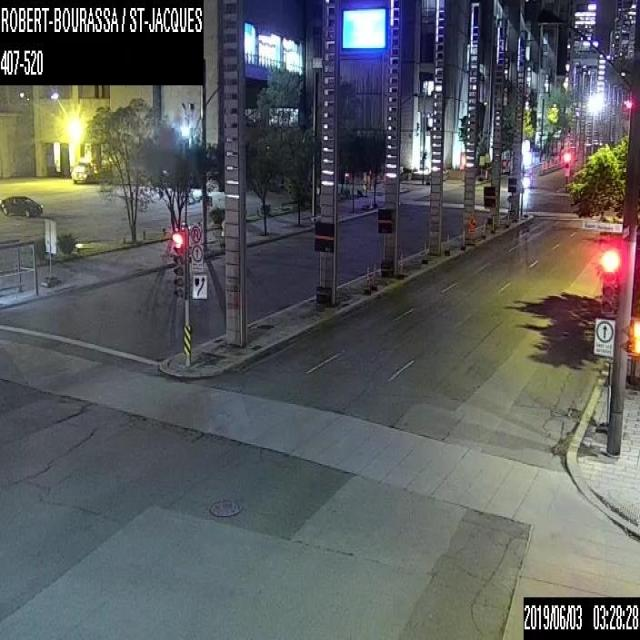construction: (464, 212, 479, 233), (399, 250, 403, 274), (366, 267, 369, 289), (460, 230, 464, 246), (423, 239, 426, 260), (372, 266, 375, 286), (491, 216, 494, 233), (445, 234, 448, 250), (506, 210, 509, 226), (482, 223, 485, 237), (525, 201, 528, 215)
vehicle: (71, 154, 111, 182), (0, 196, 42, 216)
